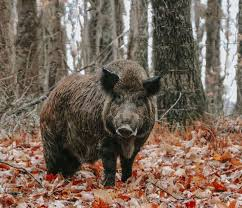boar: (40, 58, 161, 187)
